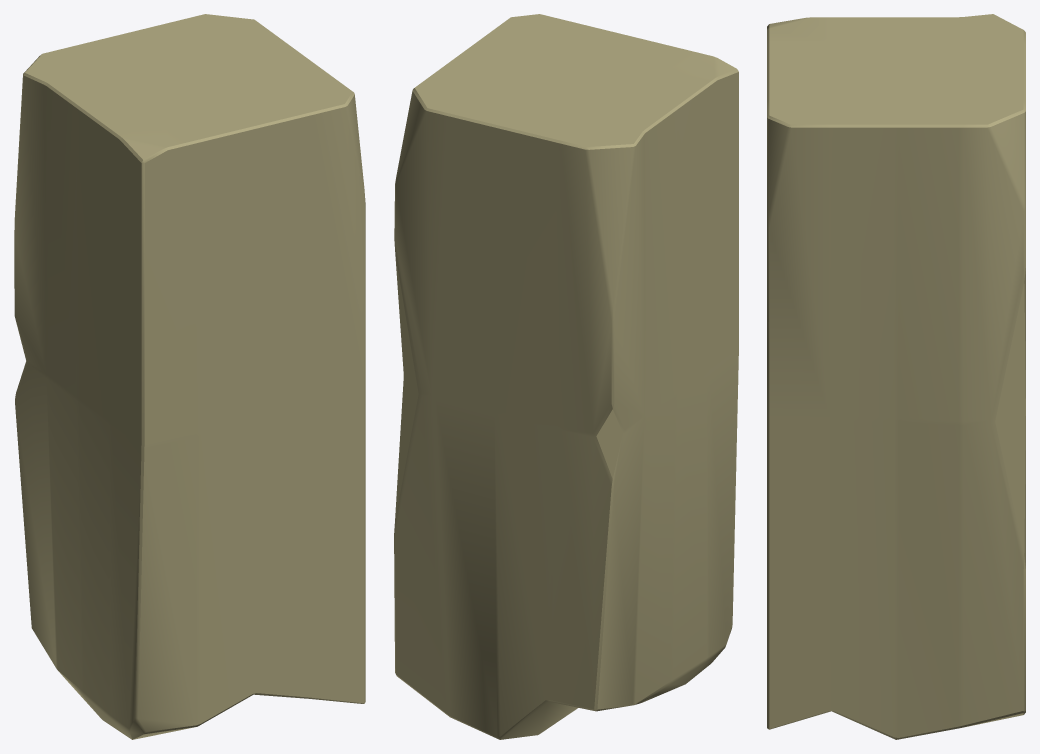
File: pillar_broken_top.fbx
3 renders of one model, left to right at view 1: azimuth 30°, elevation 25°; view 2: azimuth 150°, elevation 25°; view 3: azimuth 270°, elevation 25°, orthographic. The views are drawn at different scales.
Visible parts, largest first — view 1: Pillar_Broken_Top; view 2: Pillar_Broken_Top; view 3: Pillar_Broken_Top.
Part boxes in pixels (<box>): Pillar_Broken_Top: <box>14,14,365,739</box>; Pillar_Broken_Top: <box>394,14,738,739</box>; Pillar_Broken_Top: <box>767,14,1025,739</box>.
Bounding box in the file's own units: 123 × 318 × 115.
